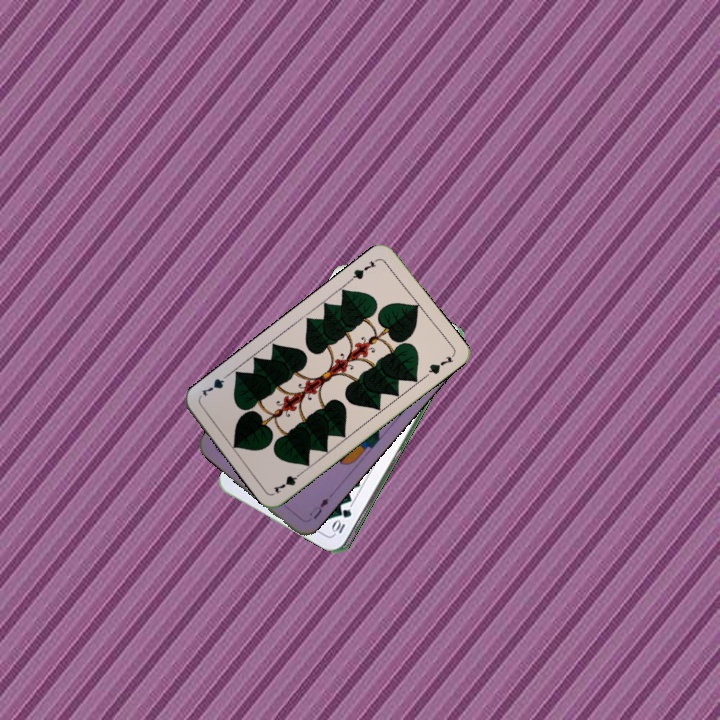EU: (305, 494, 331, 522)
G10: (330, 505, 354, 537)
G7: (269, 467, 306, 496), (345, 255, 381, 284)
